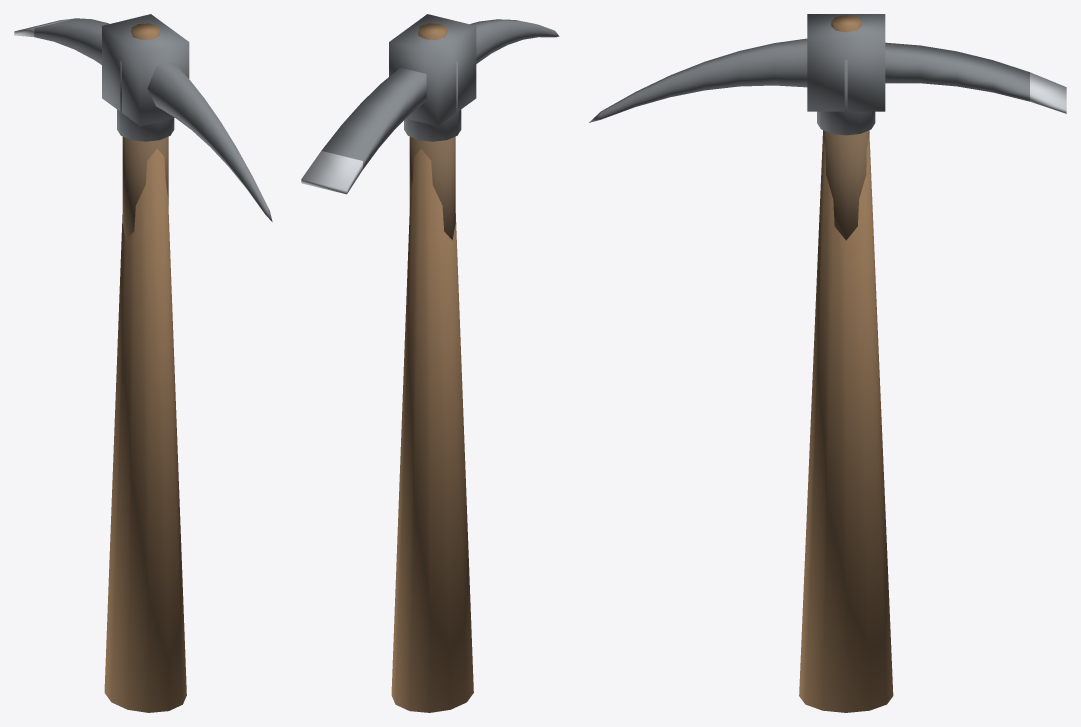
The model's file is pickaxe.glb.
3 views of the same model, side by side, from view 1: azimuth 30°, elevation 25°; view 2: azimuth 150°, elevation 25°; view 3: azimuth 270°, elevation 25° (orthographic).
Parts seen in each view (by area): view 1: Pickaxe; view 2: Pickaxe; view 3: Pickaxe.
Boxes of the visible parts, <box> form: Pickaxe: <box>14,14,272,712</box>; Pickaxe: <box>301,14,559,712</box>; Pickaxe: <box>589,14,1066,712</box>.
Bounding box in the file's own units: 0.0963 × 0.895 × 0.575.
